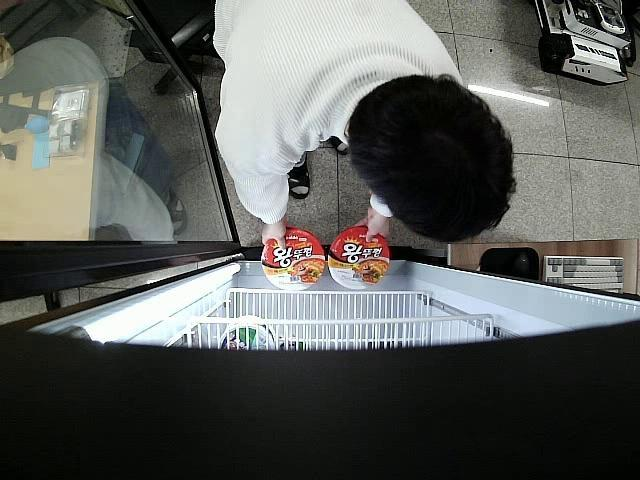10_wangTtukkeong: (262, 231, 324, 290), (330, 228, 390, 288)
